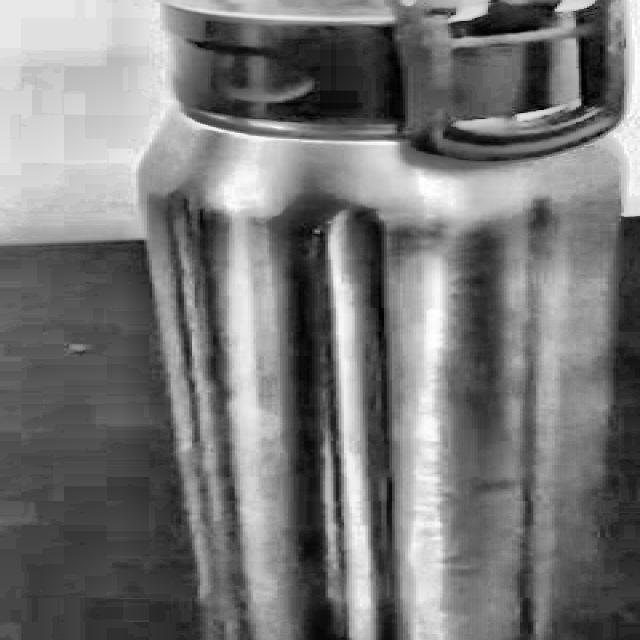bottle: (139, 0, 632, 640)
